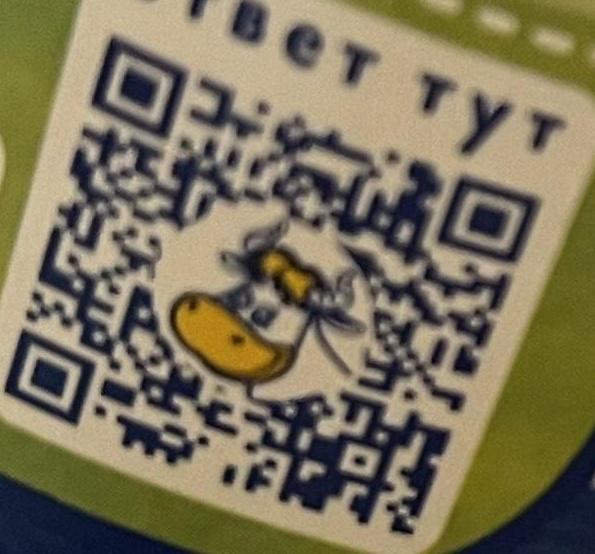qrcode: (4, 35, 545, 537)
